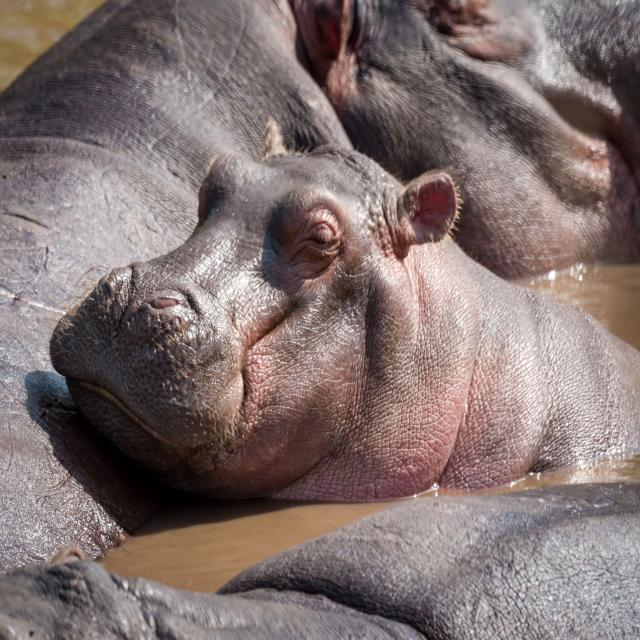hippopotamus: (50, 120, 640, 502)
